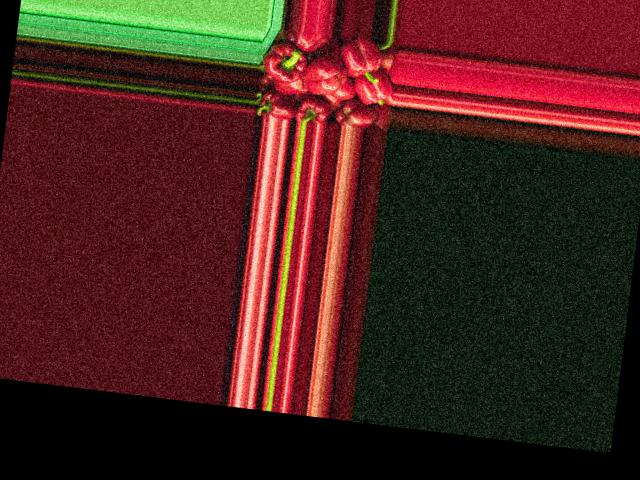bell_pepper: (256, 89, 295, 120)
